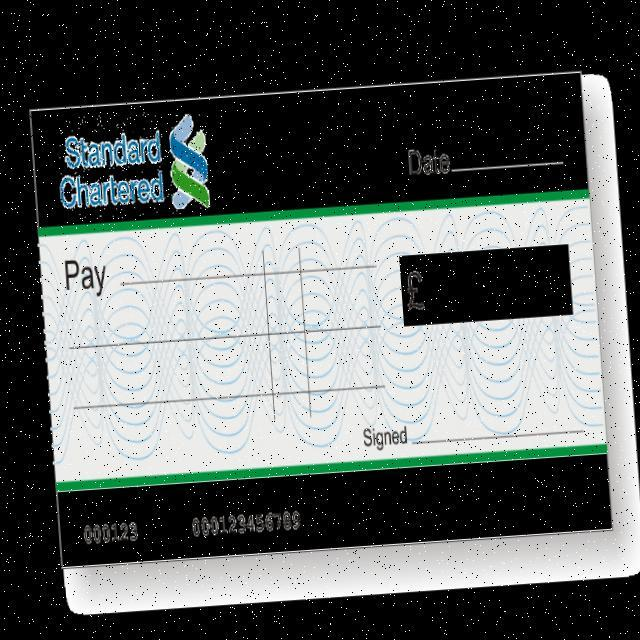Standard Chartered: (55, 108, 212, 222)
